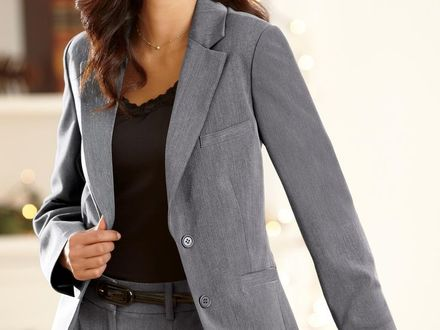F_W_suit jacket: (34, 26, 379, 317)
